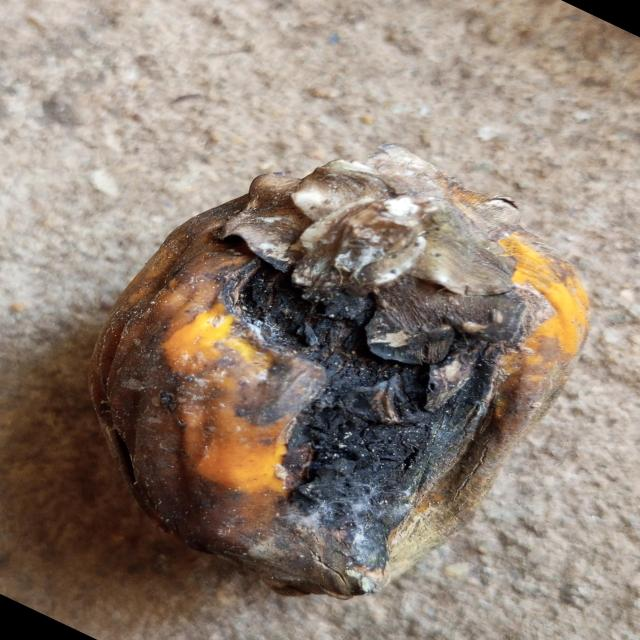damaged: (91, 145, 589, 597)
